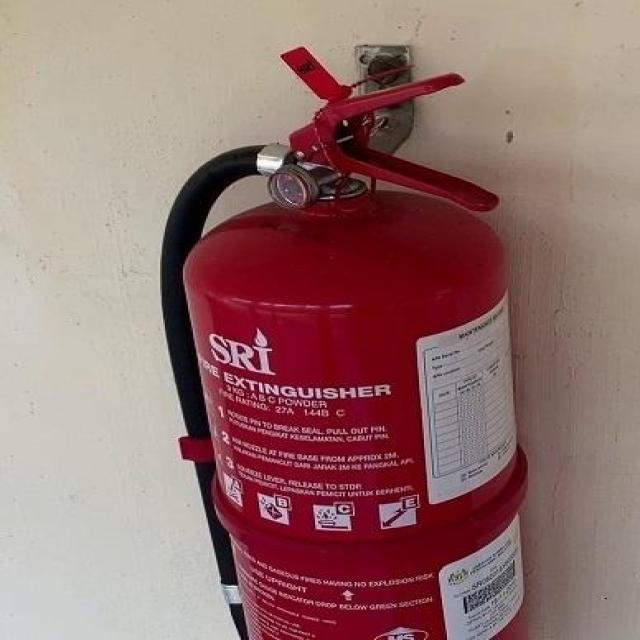fire_extinguisher: (143, 38, 550, 639)
